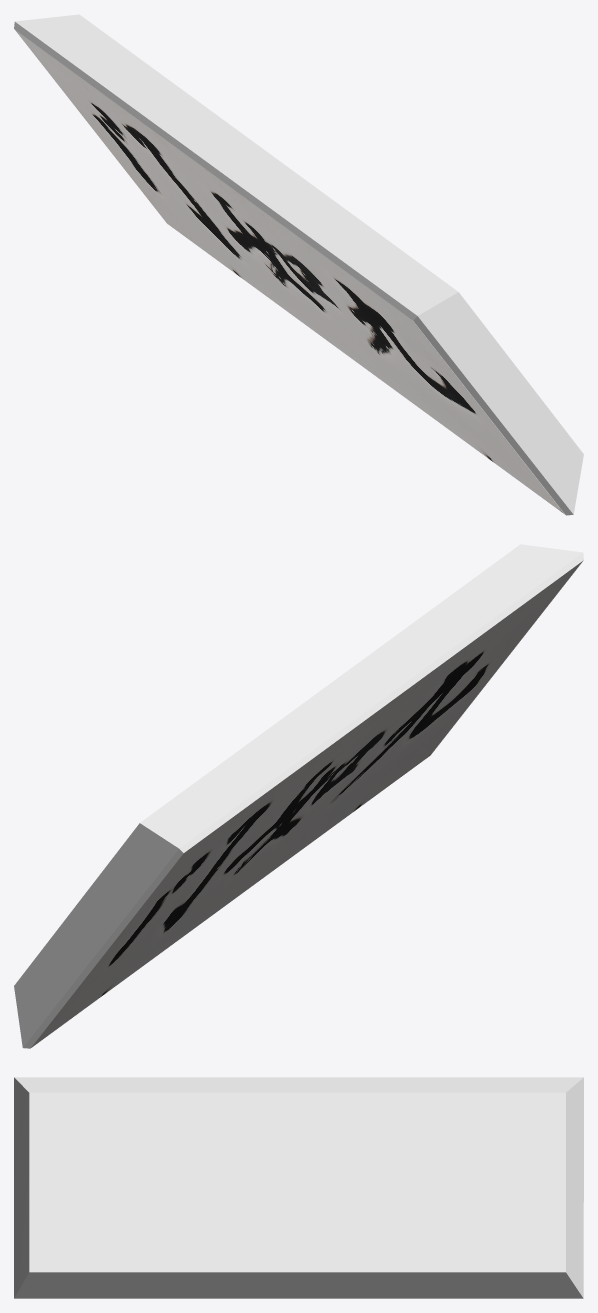
File: SM_R_Sign_GY.fbx
3 views of the same model, one above another, from view 1: azimuth 30°, elevation 25°; view 2: azimuth 150°, elevation 25°; view 3: azimuth 270°, elevation 25° (orthographic). The views are drawn at different scales.
Parts seen in each view (by area): view 1: SM_R_Sign_GY; view 2: SM_R_Sign_GY; view 3: SM_R_Sign_GY.
Boxes of the visible parts, x1,y1,x2,y2 form: SM_R_Sign_GY: (14,14,583,515); SM_R_Sign_GY: (14,544,583,1048); SM_R_Sign_GY: (14,1077,583,1298).
Bounding box in the file's own units: 25.24 × 97.85 × 32.3.
1 material, 1 textured.
